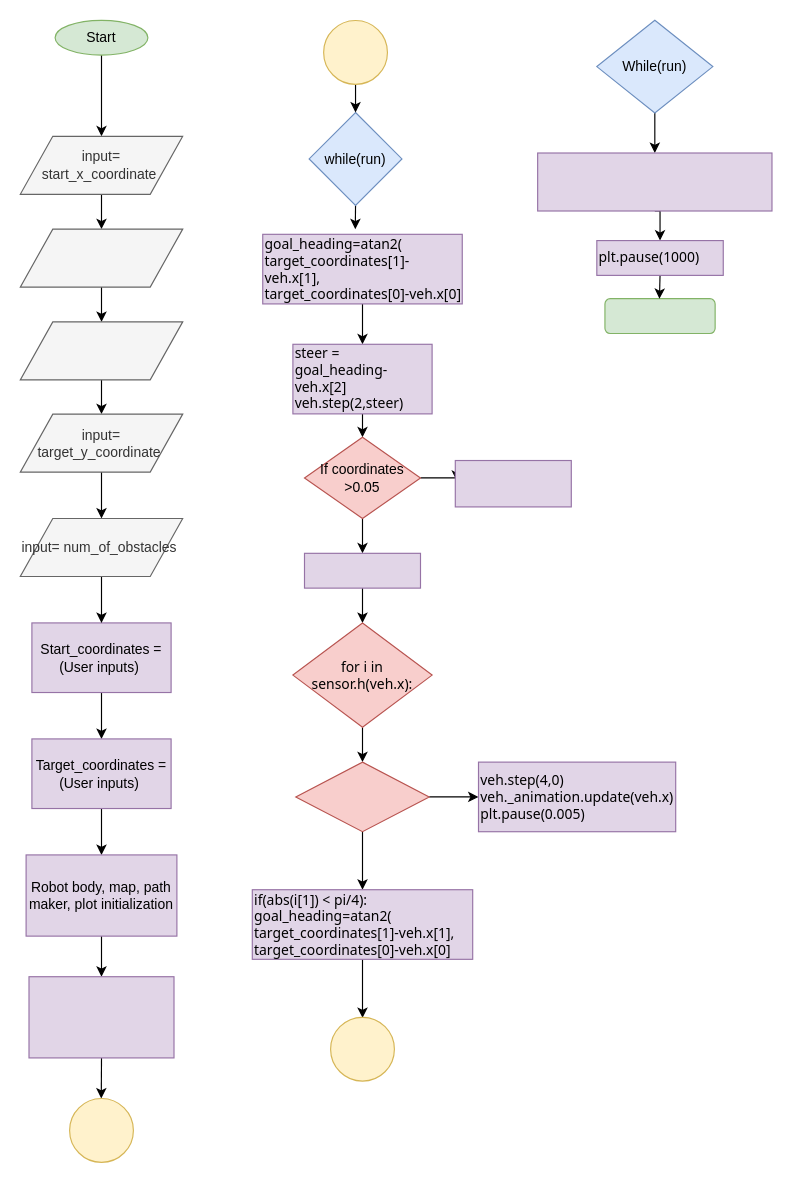
This 792x1183 diagram has some shape labels left out. Here are the shapes that lost their labels. From the top down, the box of each, then its label:
(536, 152, 772, 211): if(avoidance_range(sensor.h(veh.x)) == False): run = False
(19, 228, 183, 287): input= start_y_coordinate
(604, 298, 715, 334): Terminate
(19, 321, 183, 380): input= target_x_coordinate
(454, 459, 571, 507): run=False plt.pause(0.005)
(303, 552, 420, 588): run=True
(295, 761, 429, 832): if (i[0] < 3)
(28, 976, 174, 1058): sensor_range_bearing= True
